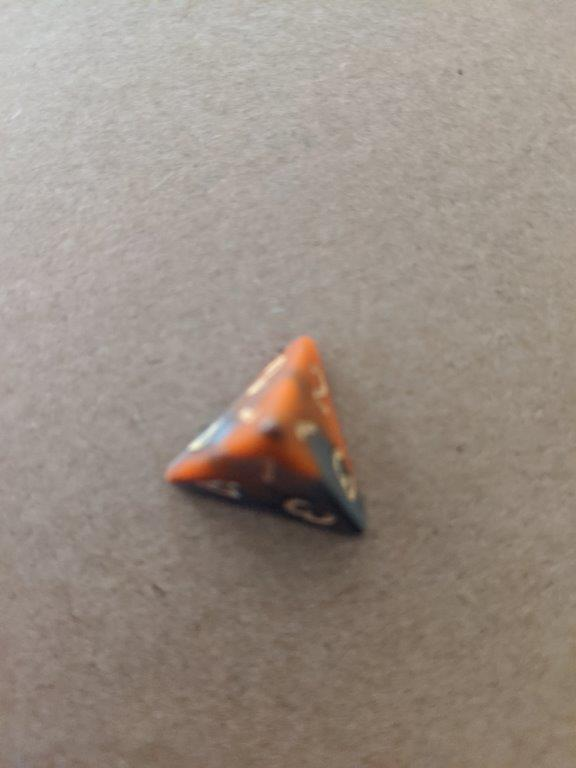d4-1: (159, 329, 378, 546)
